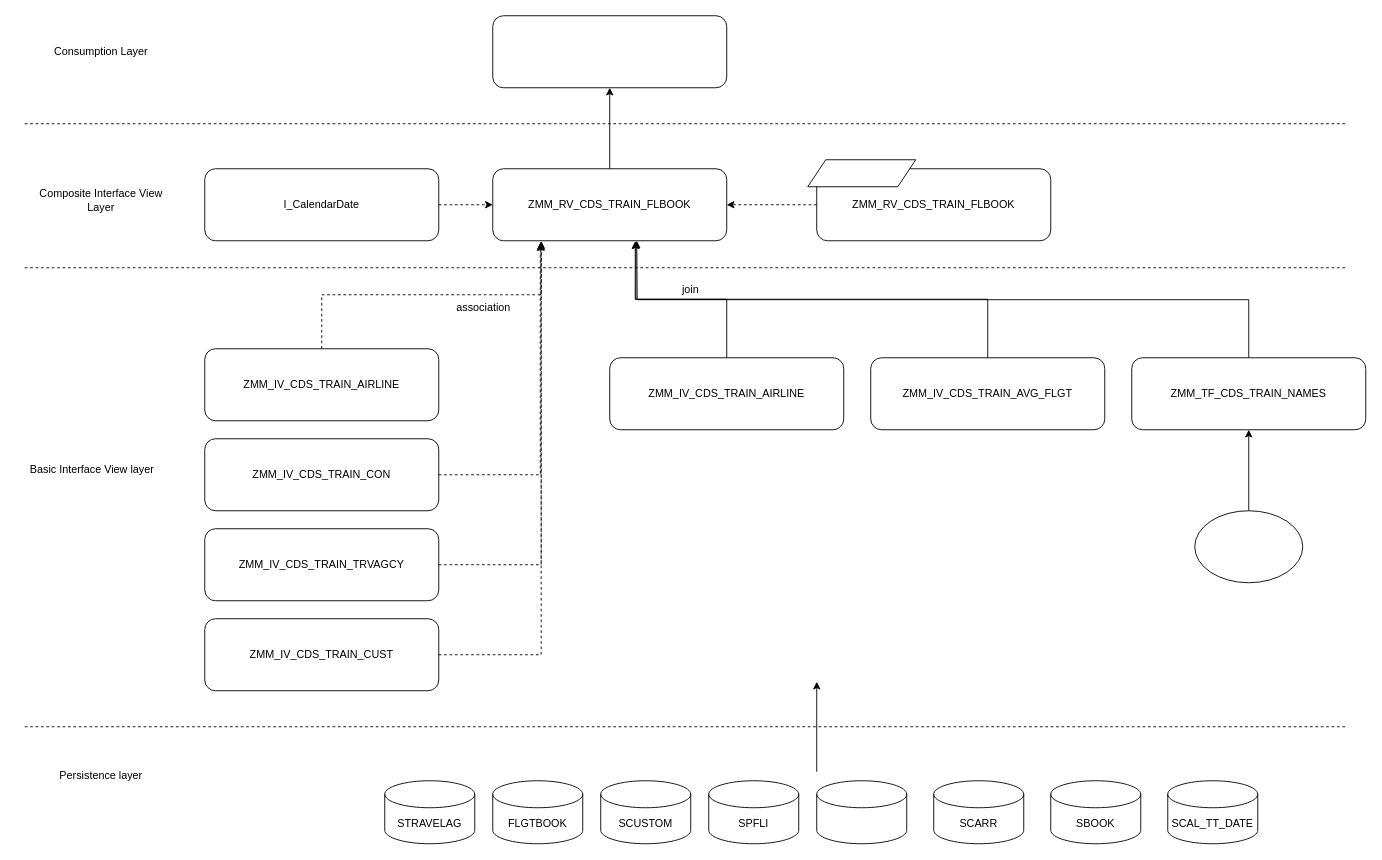
The diagram is 1382 pixels wide and 860 high, and some of its shapes have lost their labels. The centre of each missing label's shape, as x and y in pixels:
"AMDP Method" belongs at point 1248,546.
"DAC" belongs at point 861,173.
"SFLIGHT" belongs at point 861,812.
"ZMM_CV_CDS_TRAIN_FLBOOK" belongs at point 609,51.
